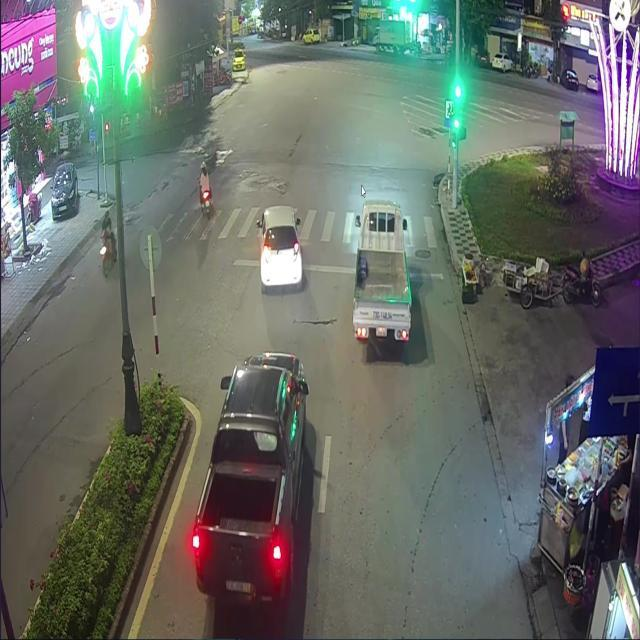car: (190, 353, 308, 613), (351, 204, 415, 361), (258, 205, 303, 292)
green_light: (452, 77, 461, 130)
stop_line: (228, 256, 440, 277)
